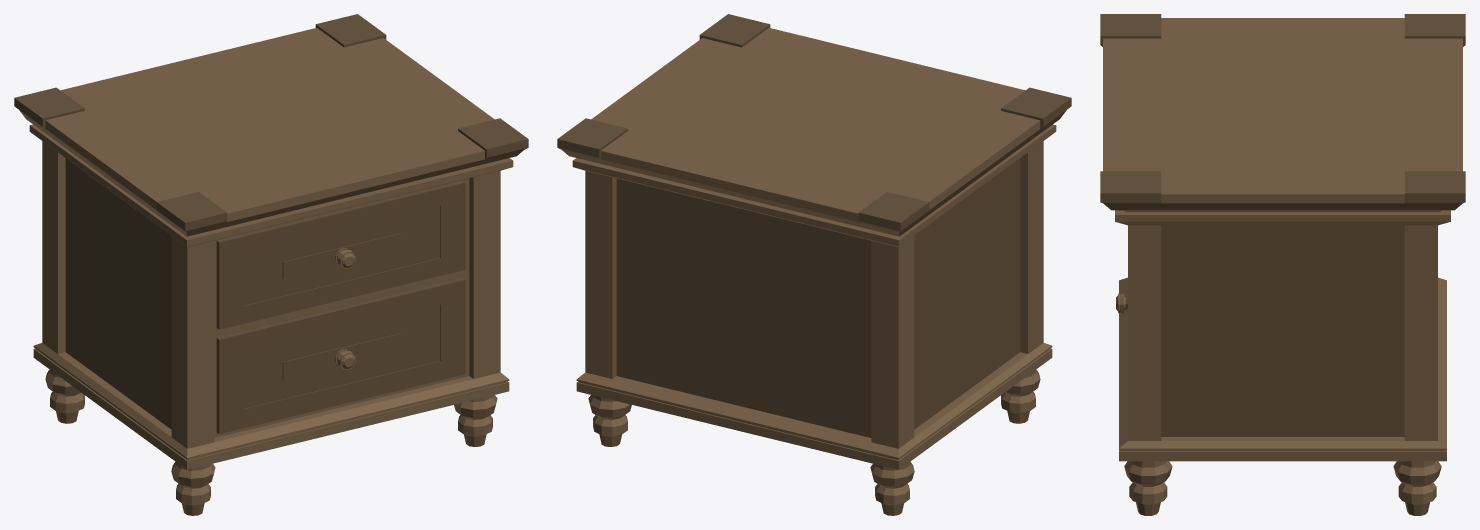
File: brazier.glb
3 views of the same model, side by side, from view 1: azimuth 30°, elevation 25°; view 2: azimuth 150°, elevation 25°; view 3: azimuth 270°, elevation 25° (orthographic). The views are drawn at different scales.
Visible parts, largest first — view 1: Nightstand_Cube, BottomDrawer_Cube.004, TopDrawer_Cube.003; view 2: Nightstand_Cube; view 3: Nightstand_Cube.
Part boxes in pixels (bbox=[...]): Nightstand_Cube: bbox=[14, 14, 528, 515]; BottomDrawer_Cube.004: bbox=[216, 278, 465, 434]; TopDrawer_Cube.003: bbox=[216, 181, 465, 329]; Nightstand_Cube: bbox=[557, 14, 1071, 515]; Nightstand_Cube: bbox=[1100, 14, 1465, 515].
Bounding box in the file's own units: 0.5877 × 0.5117 × 0.5067.
